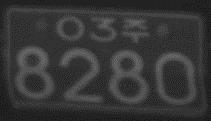0: (155, 50, 196, 107), (56, 15, 85, 41)
2: (58, 45, 103, 106)
3: (89, 16, 117, 42)
8: (108, 48, 149, 105), (15, 44, 55, 100)
주: (120, 17, 149, 43)
